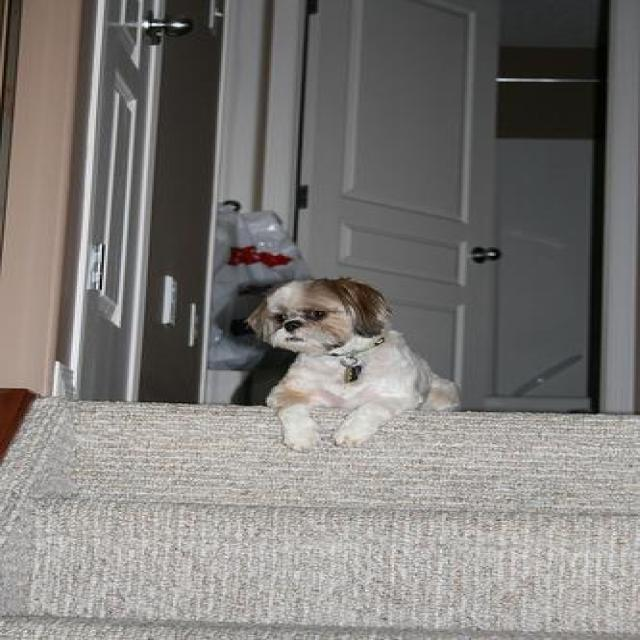shih_tzu: (244, 271, 454, 452)
